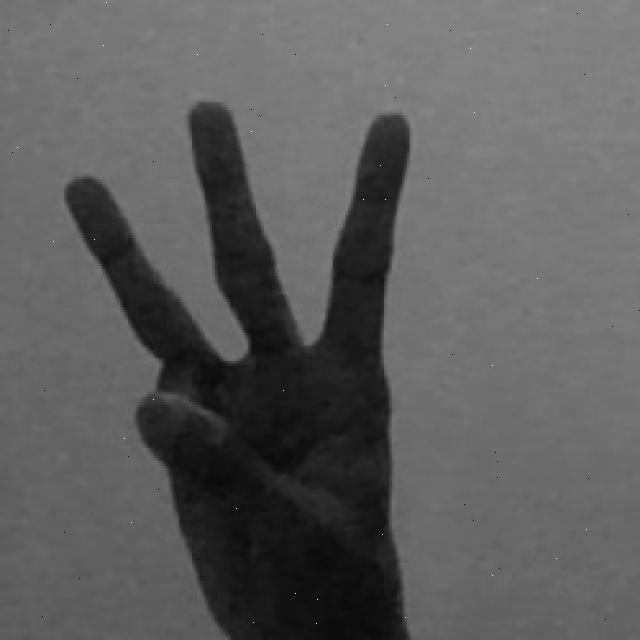W: (56, 94, 413, 640)
